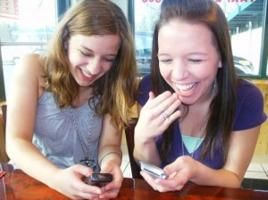person: (5, 2, 134, 200)
